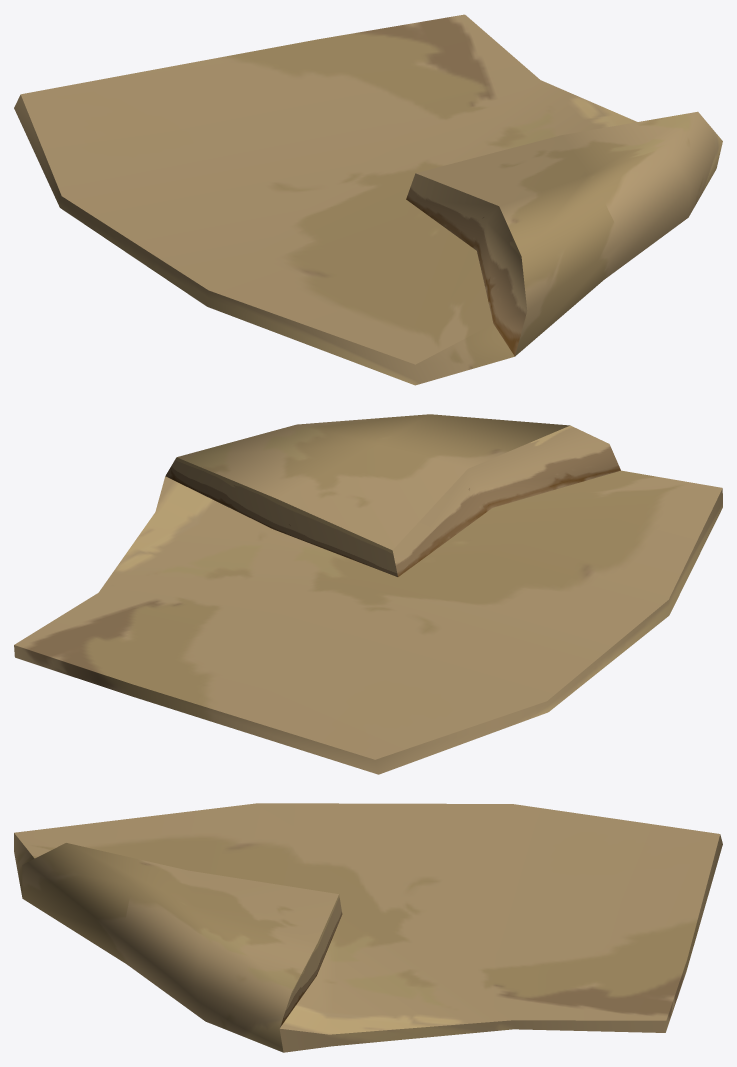
The model's file is SM_PROP_towel_interior_05.fbx.
The picture shows the model from 3 angles, top to bottom: view 1: azimuth 30°, elevation 25°; view 2: azimuth 150°, elevation 25°; view 3: azimuth 270°, elevation 25°; orthographic projection. The views are drawn at different scales.
Parts seen in each view (by area): view 1: SM_PROP_towel_interior_05; view 2: SM_PROP_towel_interior_05; view 3: SM_PROP_towel_interior_05.
Part boxes in pixels (box(x1,y1,x2,y2)): SM_PROP_towel_interior_05: box(14, 14, 722, 385); SM_PROP_towel_interior_05: box(14, 414, 722, 774); SM_PROP_towel_interior_05: box(14, 803, 722, 1052).
Size of the model in its own units: 44.15 by 6.78 by 54.84.
